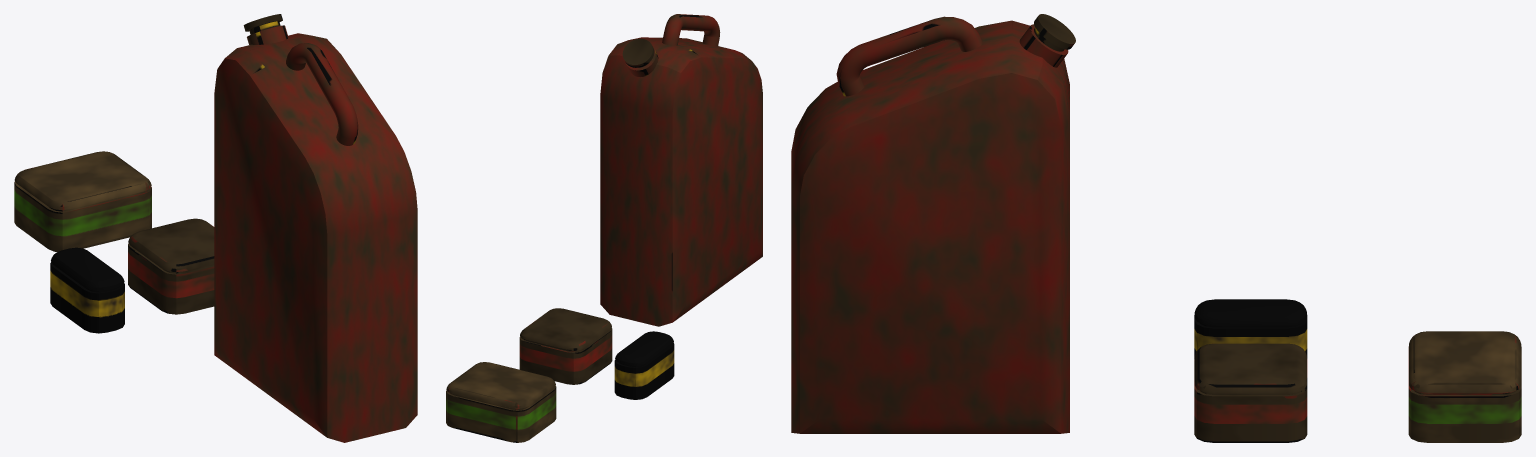
File: PickUps.fbx
3 views of the same model, side by side, from view 1: azimuth 30°, elevation 25°; view 2: azimuth 150°, elevation 25°; view 3: azimuth 270°, elevation 25° (orthographic). The views are drawn at different scales.
Visible parts, largest first — view 1: Cube.009, Cube.006, Cube.008, Cube.010; view 2: Cube.009, Cube.006, Cube.008, Cube.010; view 3: Cube.009, Cube.006, Cube.008, Cube.010.
Boxes of the visible parts, x1,y1,x2,y2 form: Cube.009: (214, 14, 417, 442); Cube.006: (14, 151, 151, 251); Cube.008: (128, 218, 214, 314); Cube.010: (50, 247, 124, 333); Cube.009: (600, 14, 762, 326); Cube.006: (446, 362, 556, 442); Cube.008: (519, 308, 612, 384); Cube.010: (614, 331, 674, 399); Cube.009: (791, 14, 1075, 433); Cube.006: (1408, 331, 1521, 442); Cube.008: (1194, 343, 1307, 442); Cube.010: (1194, 299, 1307, 358).
Size of the model in its own units: 20.53 by 41.42 by 68.69.
Materials: 1 (1 with a texture image).
